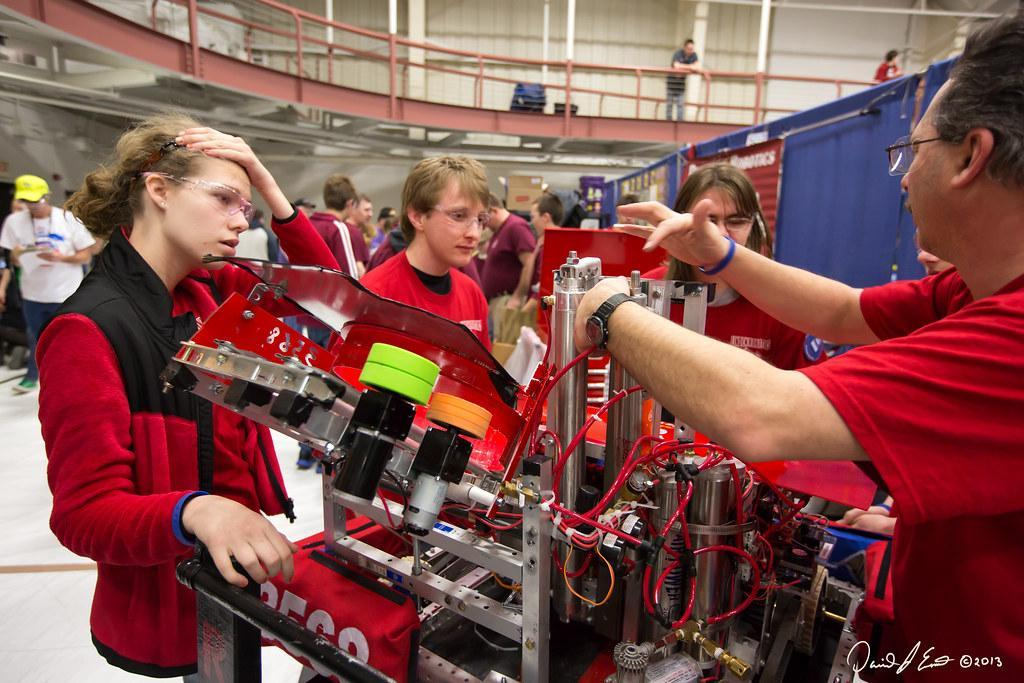robot: (250, 223, 943, 683)
